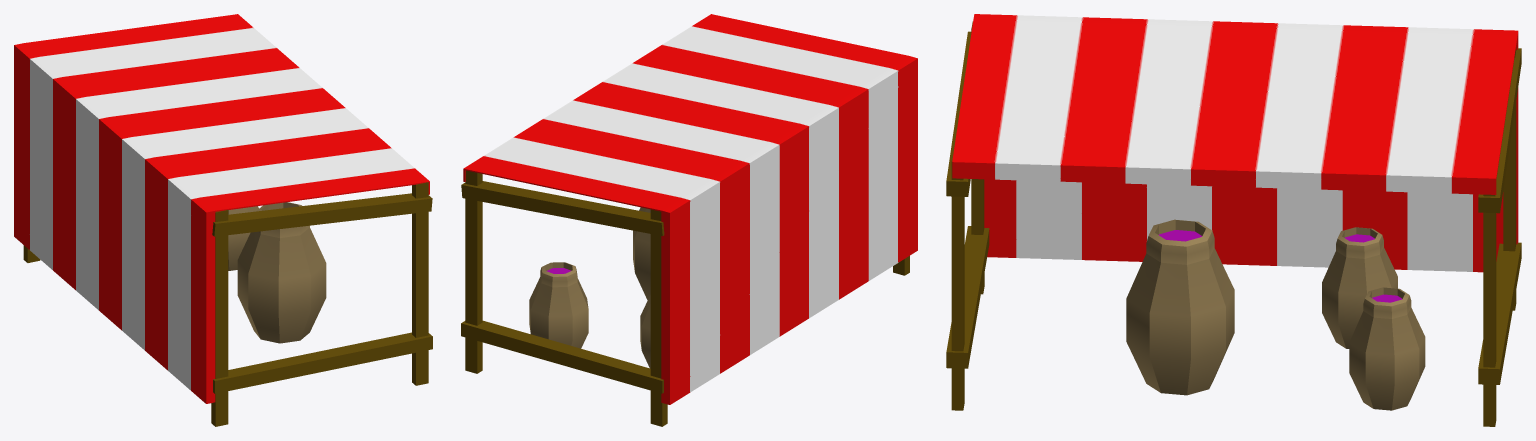
The model's file is store 1.glb.
3 views of the same model, side by side, from view 1: azimuth 30°, elevation 25°; view 2: azimuth 150°, elevation 25°; view 3: azimuth 270°, elevation 25° (orthographic). The views are drawn at different scales.
Parts seen in each view (by area): view 1: store1; view 2: store1; view 3: store1.
Part boxes in pixels (box(x1,y1,x2,y2)): store1: box(14, 14, 432, 426); store1: box(461, 14, 917, 426); store1: box(946, 14, 1521, 426).
Size of the model in its own units: 4.5 by 3.87 by 7.45.
4 materials, 4 textured.
